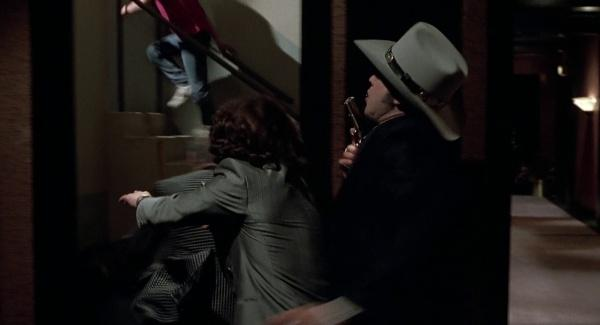Gun: (343, 96, 368, 146)
